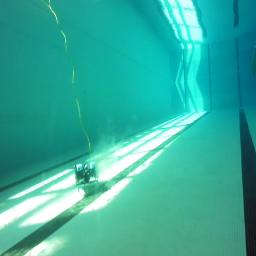front: (73, 162, 99, 185)
